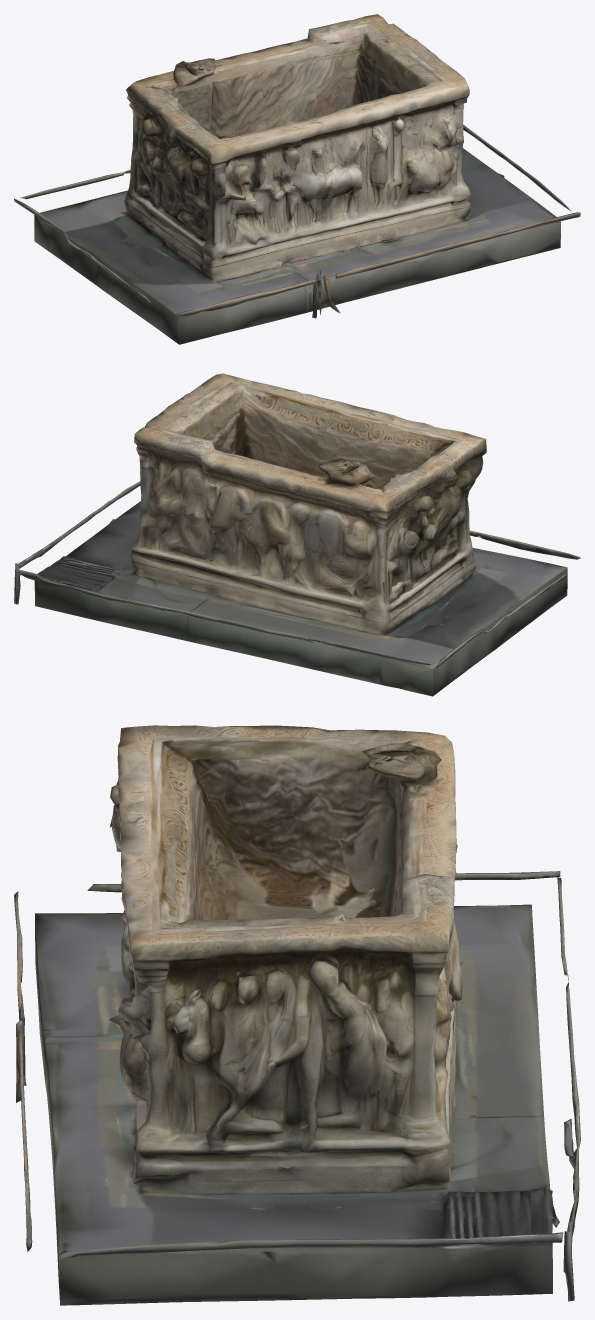
The picture shows the model from 3 angles, top to bottom: view 1: azimuth 30°, elevation 25°; view 2: azimuth 150°, elevation 25°; view 3: azimuth 270°, elevation 25°; orthographic projection. The views are drawn at different scales.
Size of the model in its own units: 1.99 by 0.8044 by 1.31.
Materials: 1 (1 with a texture image).
